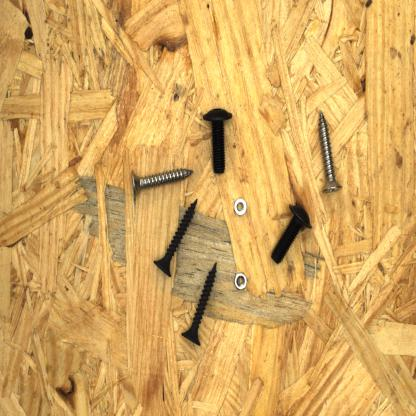screw: (149, 196, 209, 278), (265, 194, 320, 276), (178, 257, 226, 349), (310, 108, 354, 198), (124, 153, 200, 196), (197, 102, 230, 177)
